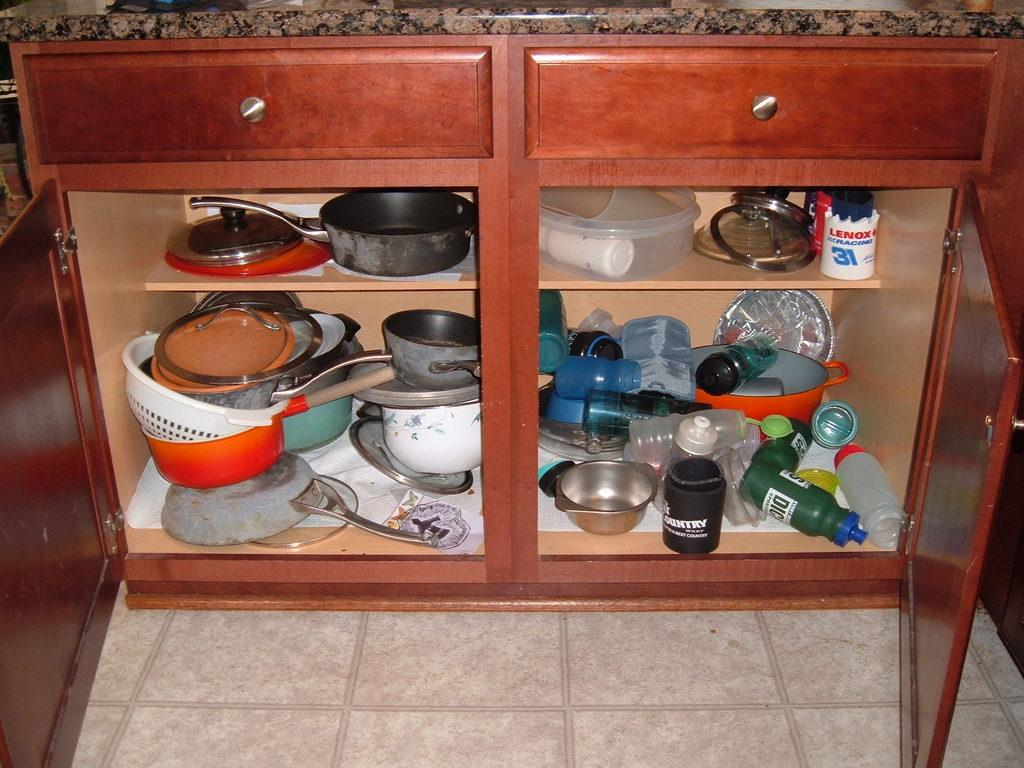cabinet_door: (529, 54, 989, 160), (28, 56, 490, 154), (934, 222, 996, 768), (28, 207, 83, 763)
handle: (748, 89, 782, 127), (236, 93, 270, 131)
